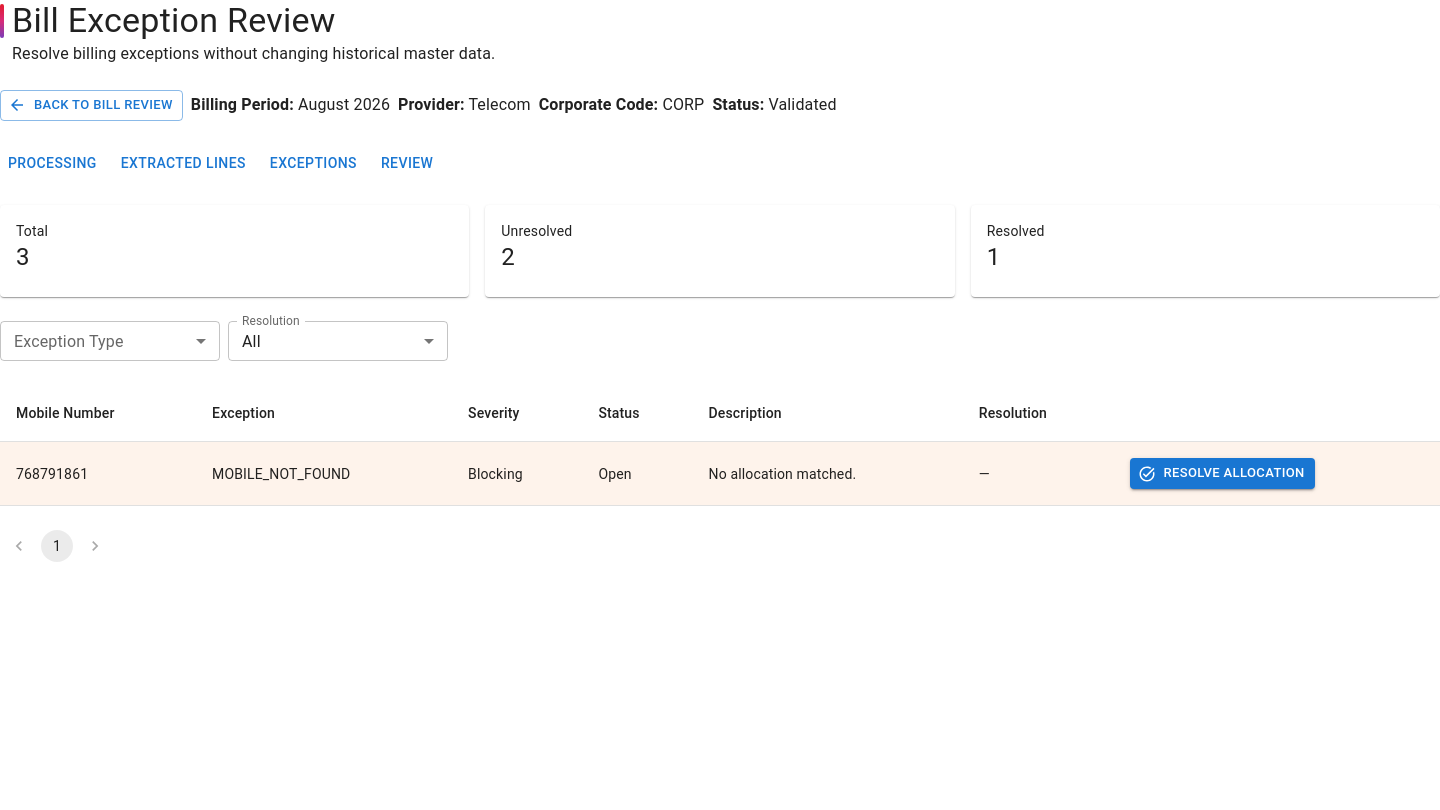
Test case: ExceptionReviewPage › explains that no historical allocation exists instead of showing an empty dropdown
Expected: the text "768791861" is shown, [0,442,196,506]
Click the button "Resolve allocation" at point(1222, 474), box [1130,458,1315,489]
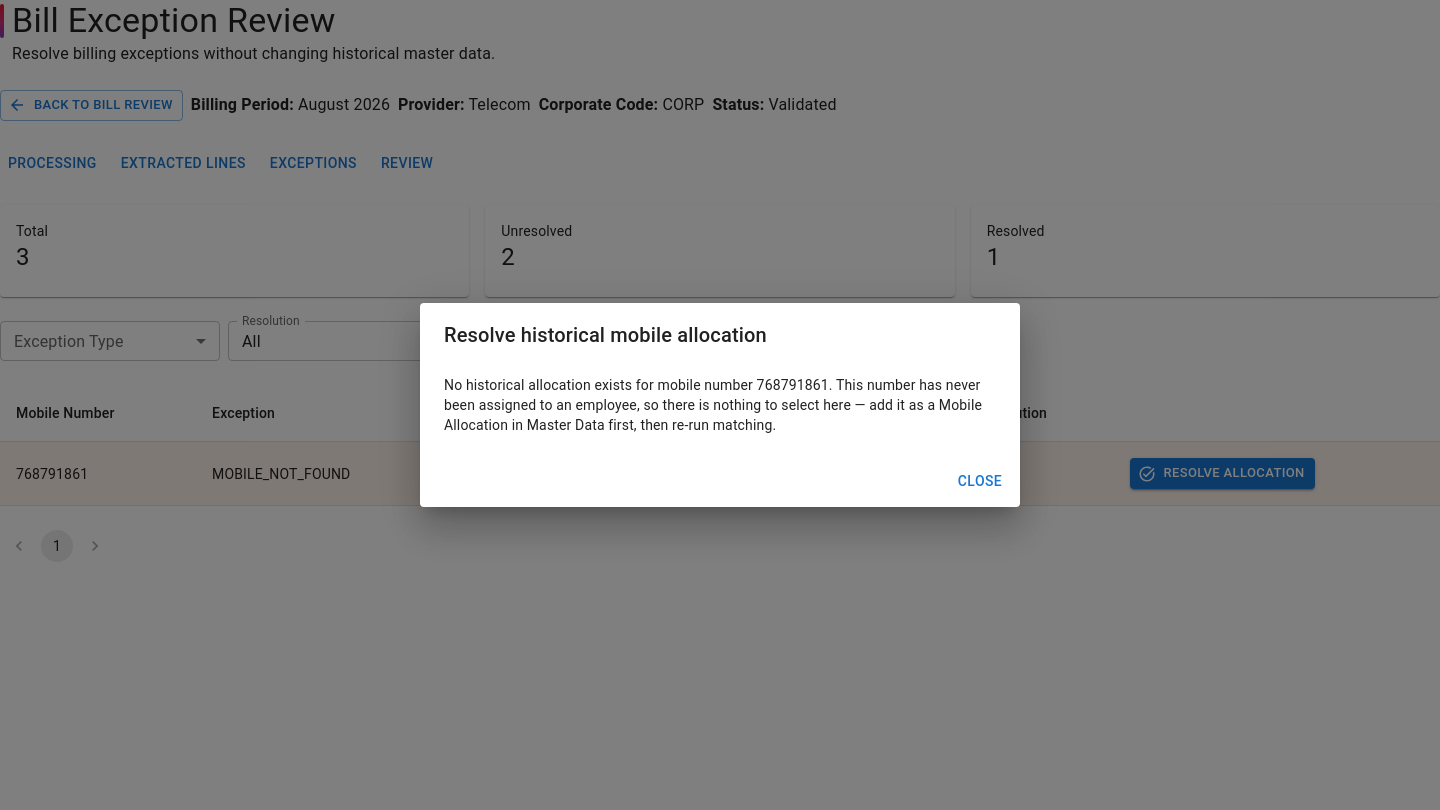
Expected: the text "No historical allocation exists for mobile number 768791861" is shown, [444,375,996,435]
Expected: the button "Close" is shown, [948,463,1012,499]
